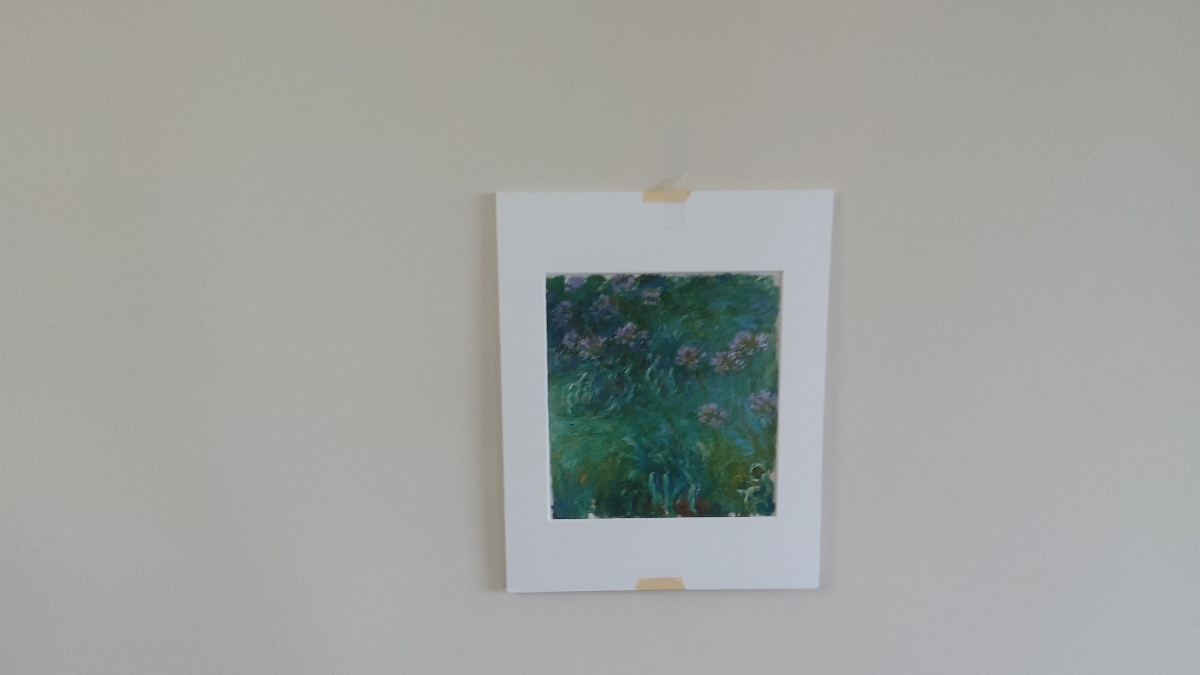painting: (538, 264, 792, 530)
